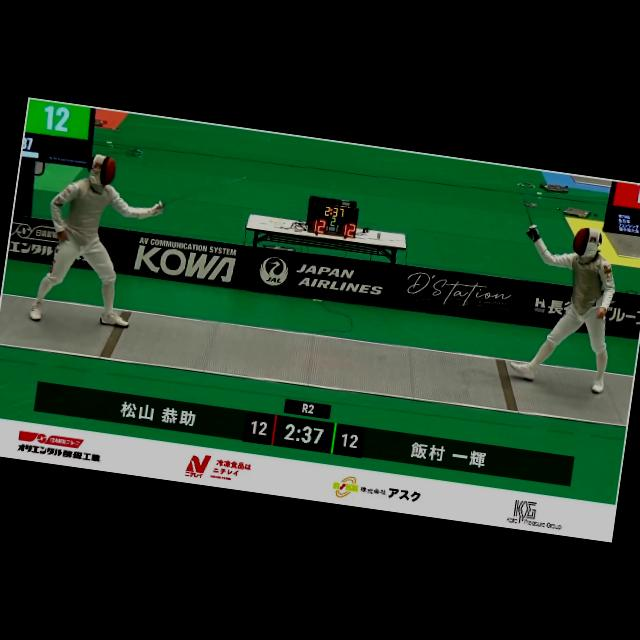blade: (151, 159, 252, 230), (516, 194, 546, 240)
